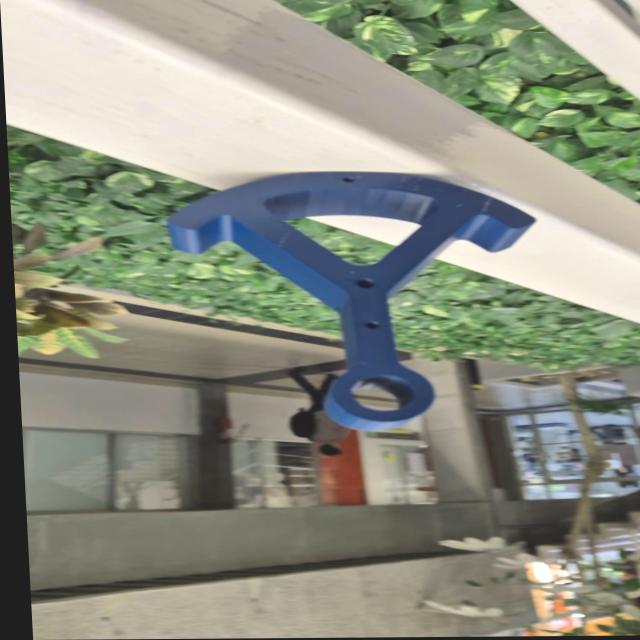haptic: (163, 168, 549, 435)
